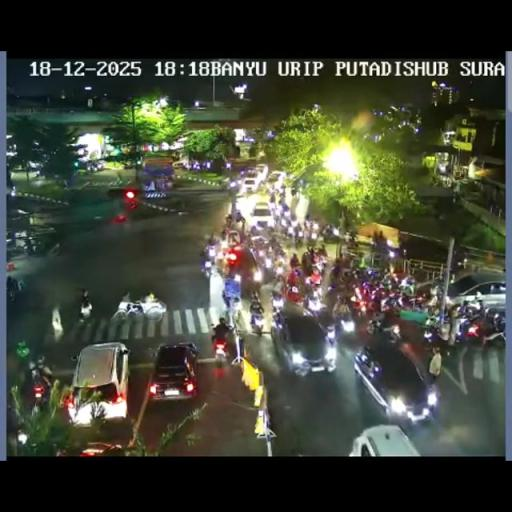Car: (357, 336, 439, 426), (68, 342, 130, 426), (270, 303, 338, 376), (148, 342, 198, 402), (348, 424, 424, 455), (444, 277, 504, 316), (66, 441, 124, 455), (240, 164, 268, 191), (250, 201, 272, 224), (224, 228, 242, 250), (266, 170, 286, 186), (172, 160, 189, 169)
Motorcycle: (201, 214, 271, 285), (267, 189, 325, 245), (379, 282, 428, 314), (350, 278, 383, 314), (367, 314, 400, 344), (421, 316, 452, 347), (480, 313, 506, 348), (458, 312, 486, 342), (29, 366, 51, 404), (6, 400, 22, 448), (284, 270, 304, 302), (116, 291, 134, 322), (248, 302, 265, 334), (212, 334, 230, 364), (303, 281, 323, 308), (370, 230, 388, 260), (338, 308, 356, 334), (308, 254, 327, 278), (217, 249, 233, 277), (143, 292, 160, 318), (423, 288, 442, 310), (330, 261, 347, 285), (362, 266, 384, 283), (6, 276, 20, 302), (200, 254, 214, 278), (272, 251, 286, 275), (270, 289, 284, 312), (79, 297, 93, 320), (319, 223, 336, 241), (306, 228, 320, 246), (24, 236, 38, 254), (46, 242, 61, 258), (222, 288, 232, 310), (346, 230, 358, 248), (262, 254, 274, 272), (474, 300, 486, 318), (290, 224, 301, 242), (250, 224, 264, 238), (278, 199, 289, 216), (252, 267, 263, 283), (276, 182, 286, 198), (207, 243, 217, 258), (162, 177, 173, 190), (235, 210, 244, 225), (318, 244, 327, 258), (224, 212, 231, 226), (269, 190, 276, 203), (221, 228, 227, 239), (34, 168, 40, 178)
